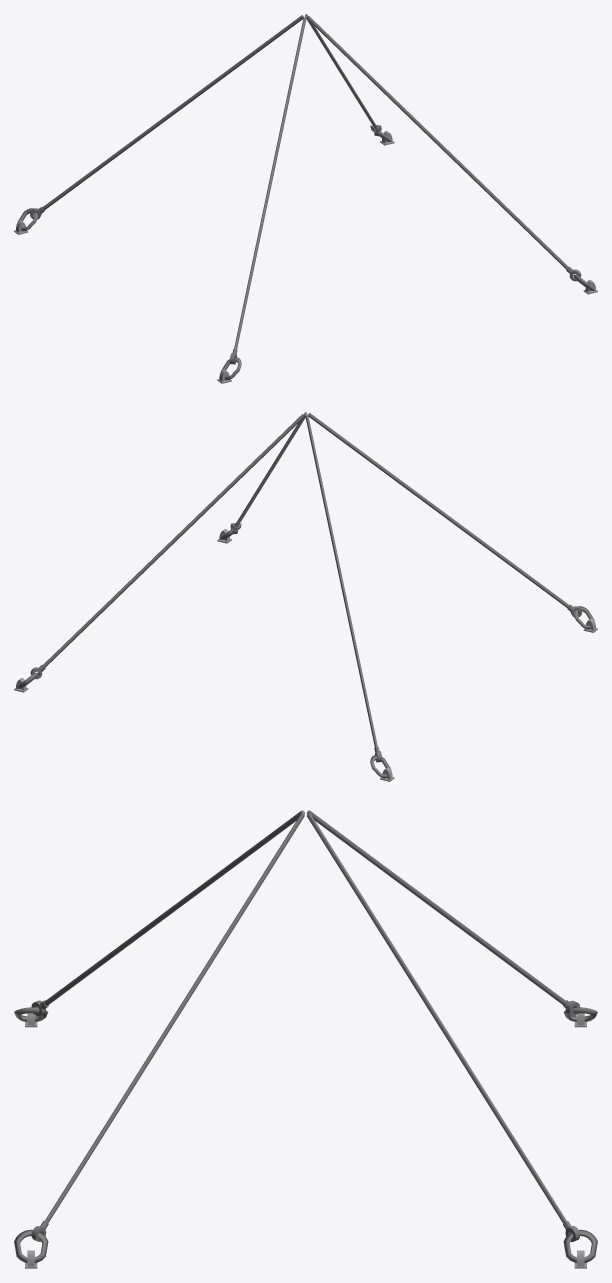
Rendered from crane_platform_rings.fbx.
3 views of the same model, one above another, from view 1: azimuth 30°, elevation 25°; view 2: azimuth 150°, elevation 25°; view 3: azimuth 270°, elevation 25° (orthographic). The views are drawn at different scales.
Visible parts, largest first — view 1: platform_rings_rope; view 2: platform_rings_rope; view 3: platform_rings_rope.
Part boxes in pixels (x1,y1,x2,y2): platform_rings_rope: (14, 14, 597, 383); platform_rings_rope: (14, 412, 597, 781); platform_rings_rope: (14, 810, 597, 1268).
Bounding box in the file's own units: 1.91 × 1.2 × 1.9.
Materials: 1 (1 with a texture image).
